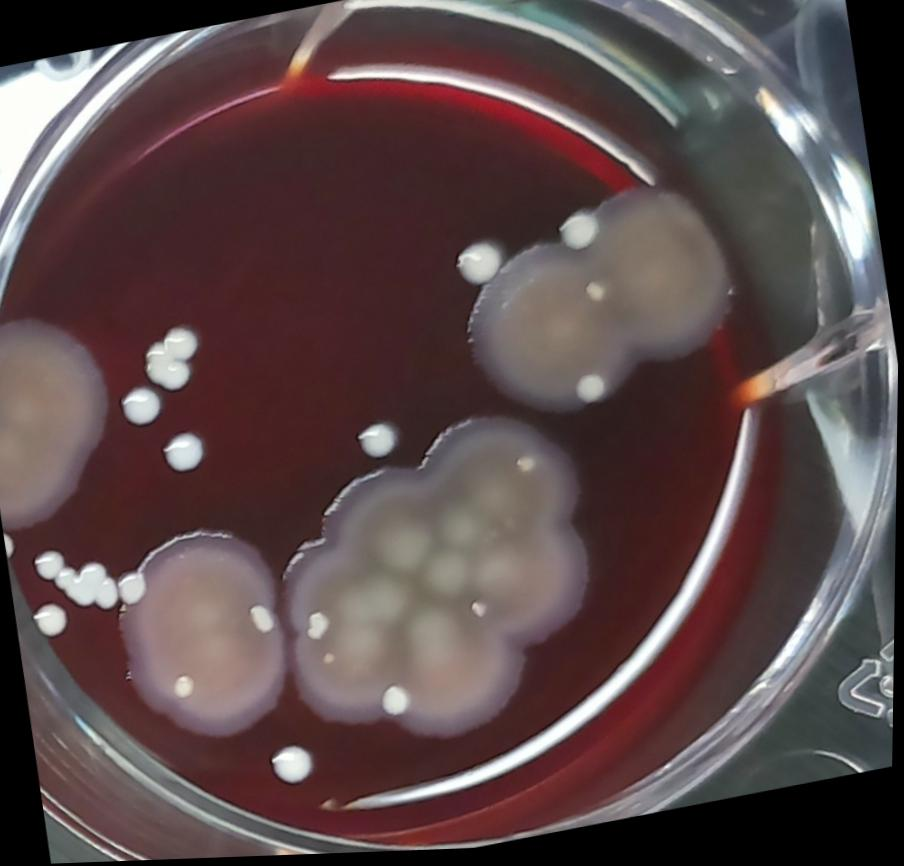staphylo-: (134, 323, 207, 401), (60, 557, 125, 619), (155, 424, 212, 481), (452, 240, 509, 295), (266, 742, 323, 795), (554, 208, 605, 260), (116, 384, 168, 433), (353, 421, 403, 467), (375, 679, 417, 727), (25, 600, 71, 643), (571, 370, 614, 413), (32, 547, 71, 586), (116, 569, 151, 609), (167, 668, 203, 705), (302, 607, 337, 645), (247, 600, 278, 638), (582, 281, 614, 313), (511, 453, 542, 481)
